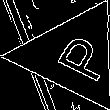P_NW: (37, 27, 108, 84)
